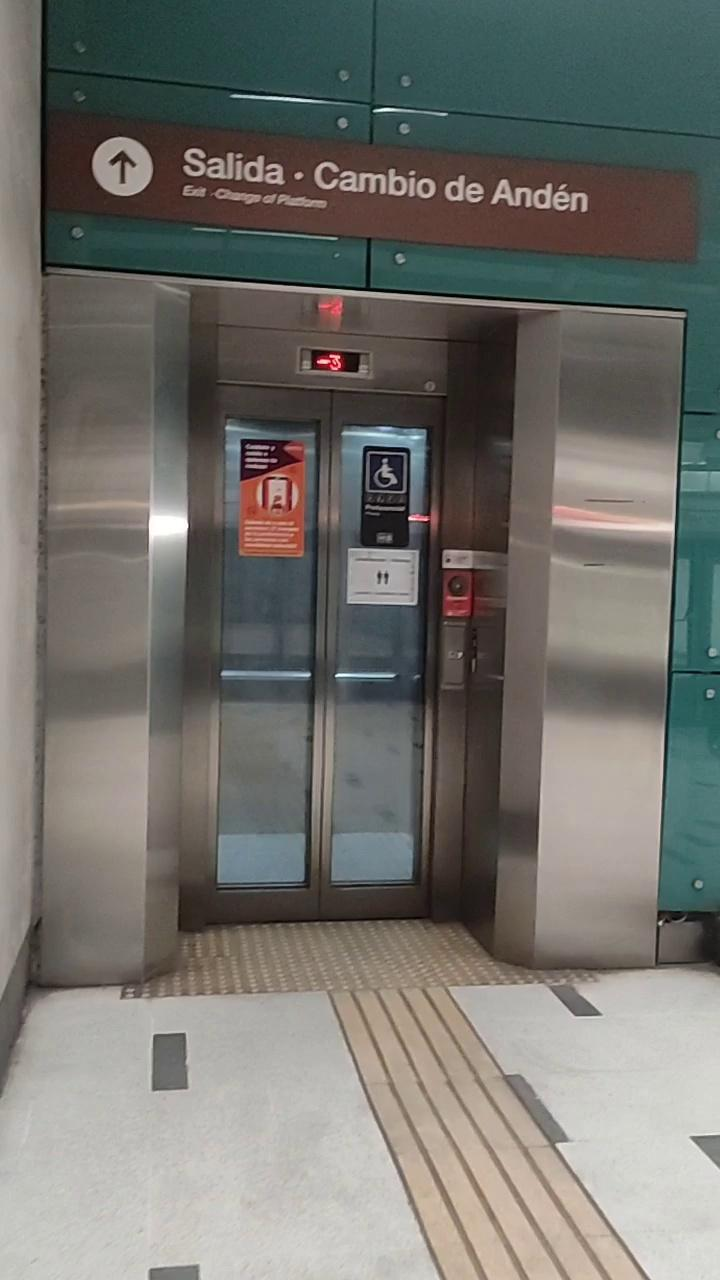handicapped symbol: (373, 456, 399, 488)
up arrow: (107, 148, 139, 186)
